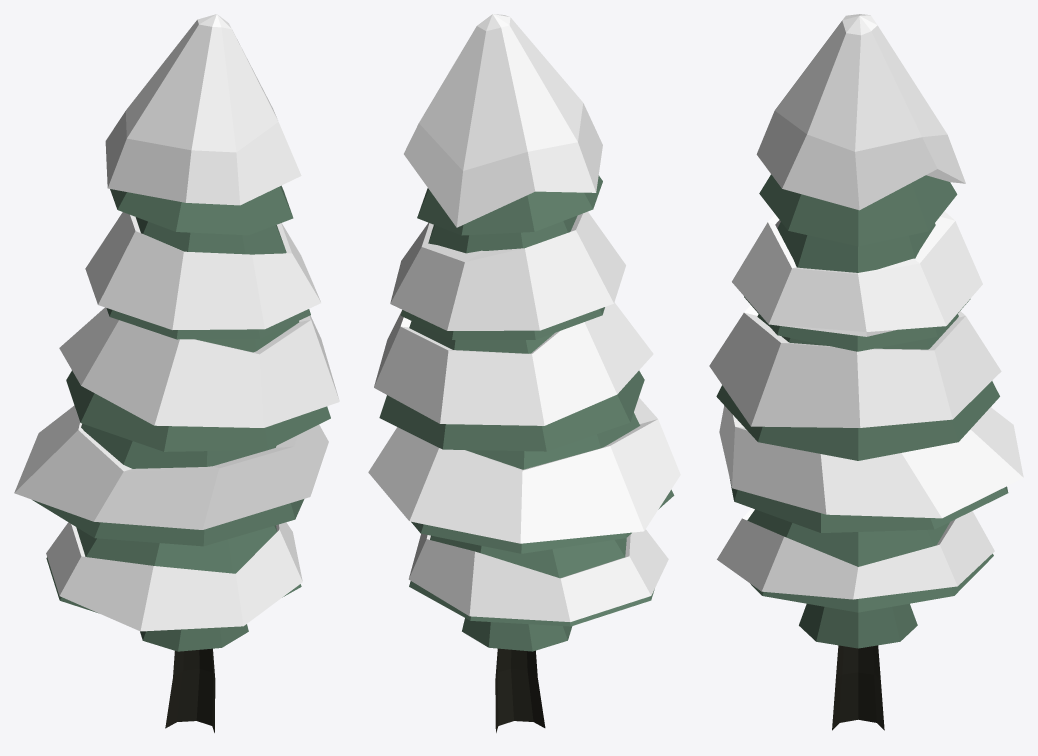
File: Snowtree2.fbx
3 renders of one model, left to right at view 1: azimuth 30°, elevation 25°; view 2: azimuth 150°, elevation 25°; view 3: azimuth 270°, elevation 25°, orthographic. The views are drawn at different scales.
Visible parts, largest first — view 1: Snowtree2; view 2: Snowtree2; view 3: Snowtree2.
Boxes of the visible parts, left/top/right/bottom form: Snowtree2: left=14, top=14, right=339, bottom=732; Snowtree2: left=368, top=14, right=680, bottom=732; Snowtree2: left=709, top=14, right=1023, bottom=730.
Bounding box in the file's own units: 62.33 × 150 × 58.71.
